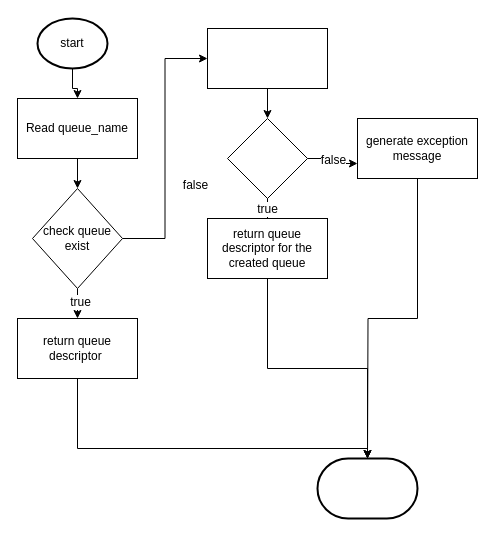
The diagram is 495 pixels wide and 536 high, and some of its shapes have lost their labels. Each missing label, with the centre of its shape:
"check new queue created" goes at (x=267, y=158).
"create new queue and set internal data structure values" goes at (x=267, y=58).
"Stop" goes at (x=367, y=488).
